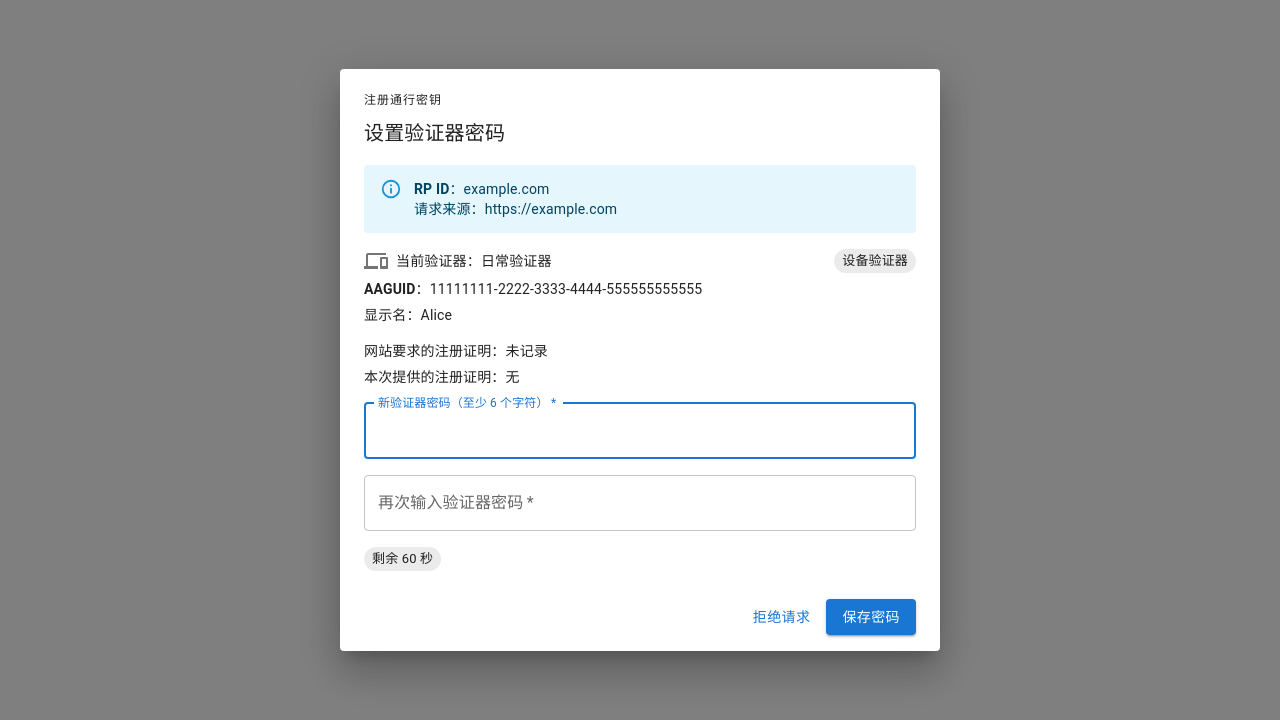
Test case: Material UI authentication ceremony › validates Unicode character count and password confirmation without posting
Type "😀😀😀" into the password field labelled "新验证器密码（至少 6 个字符） *".
click(640, 431); type("😀😀😀")  # box [364,403,916,459]
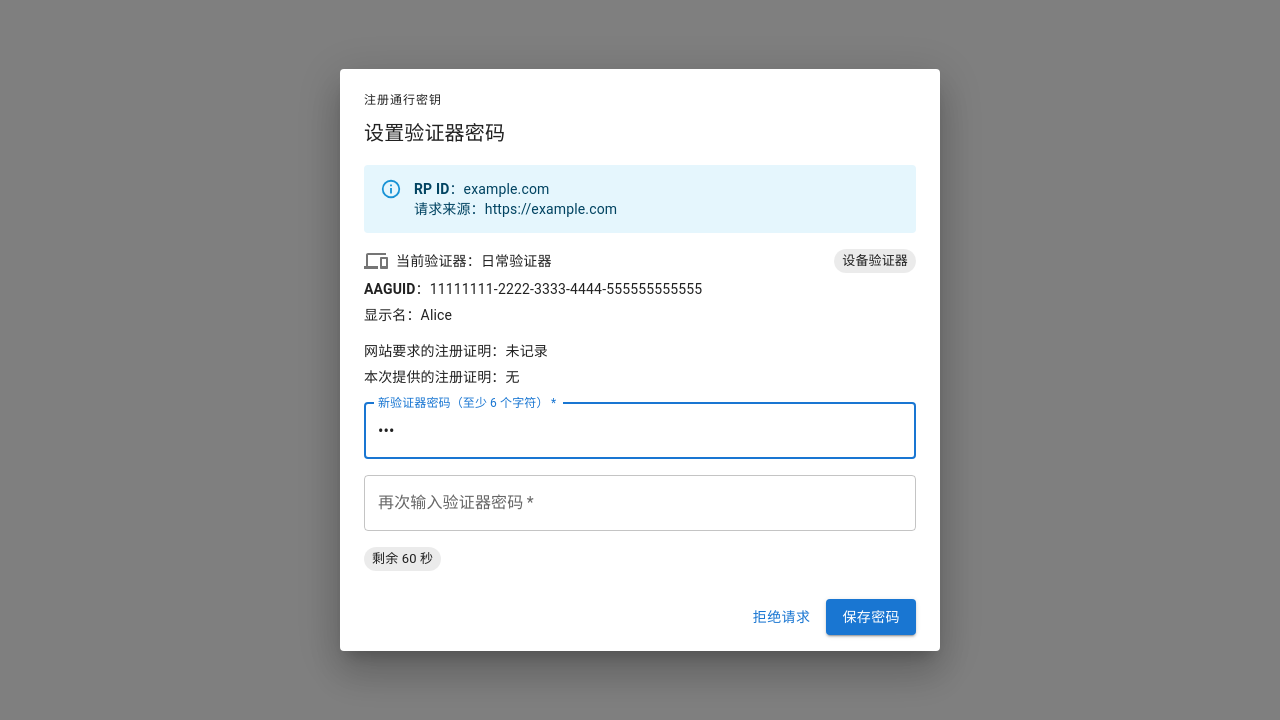
Type "😀😀😀" into the password field labelled "再次输入验证器密码 *".
click(640, 503); type("😀😀😀")  # box [364,475,916,531]
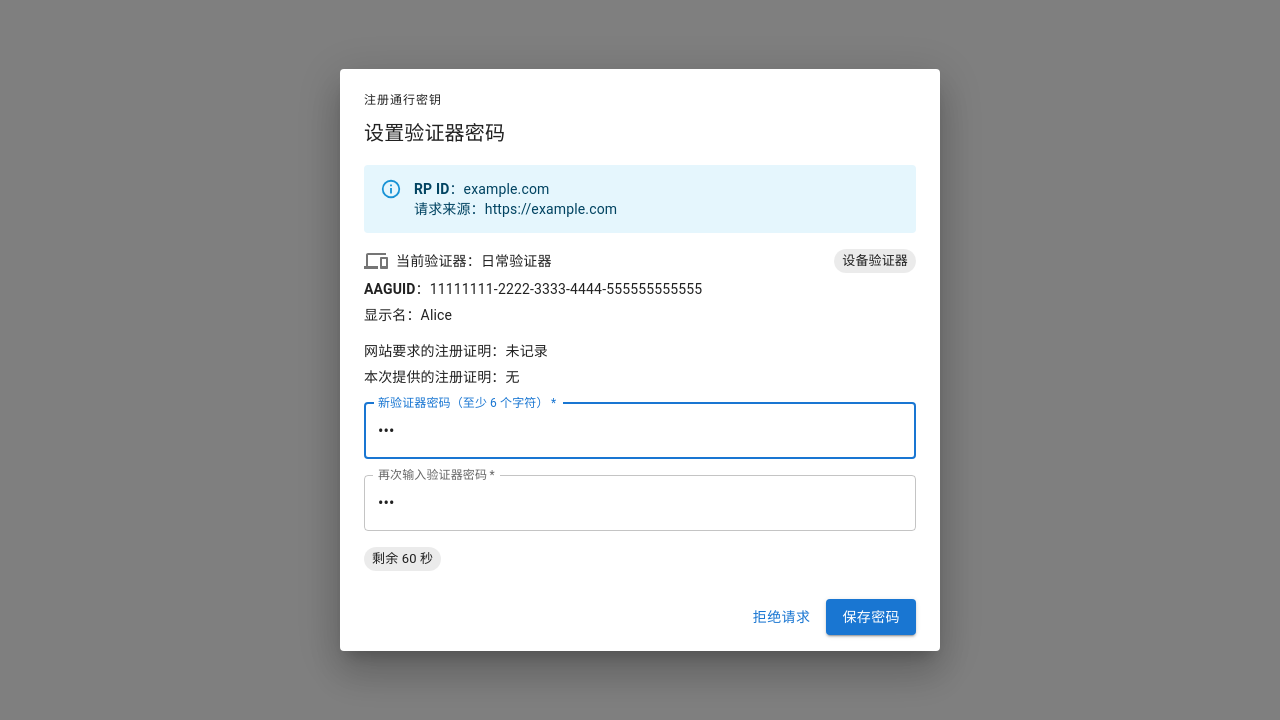
Click the button "保存密码".
click(871, 617)  # box [826,599,916,635]
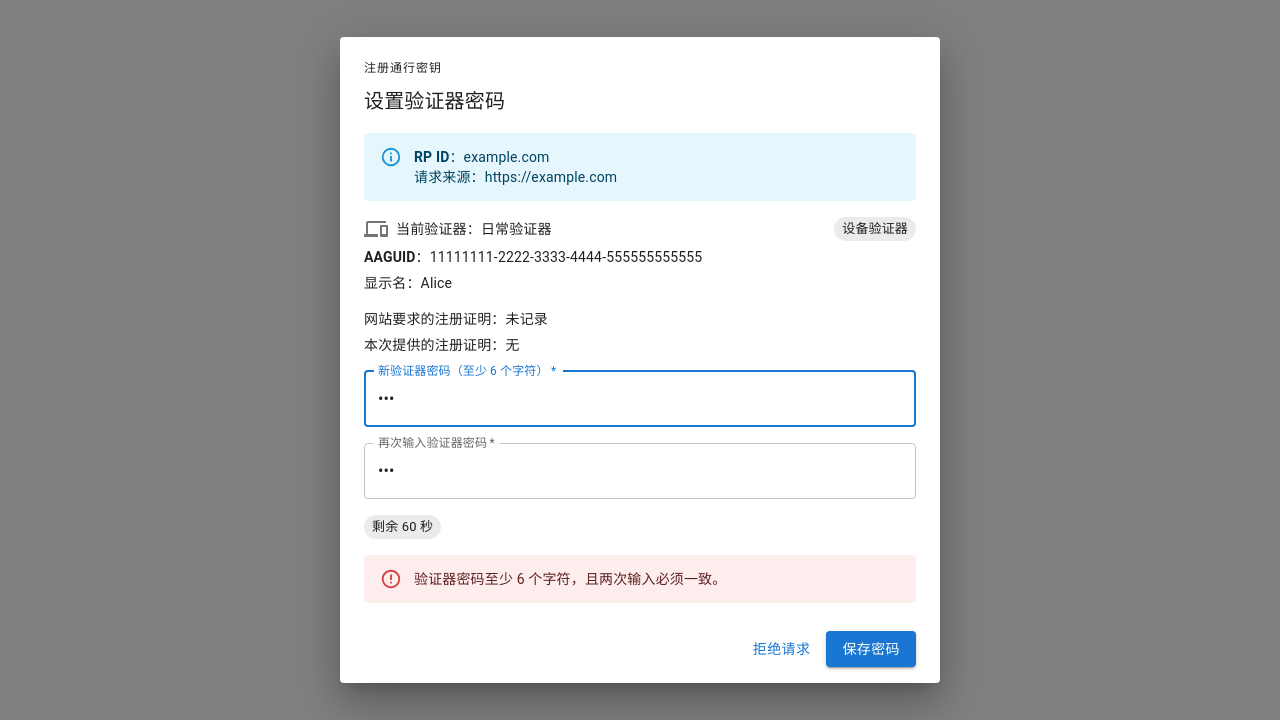
Expected: the text "验证器密码至少 6 个字符，且两次输入必须一致。" is shown, [414,571,726,587]
